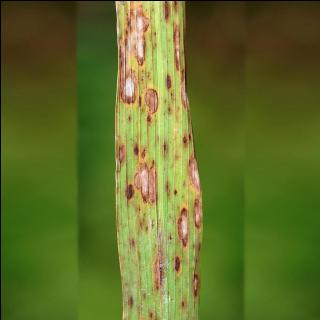Blast: (115, 1, 155, 118), (123, 141, 164, 224), (171, 25, 186, 65), (182, 161, 205, 185), (176, 210, 190, 246), (172, 77, 187, 105), (190, 201, 206, 227), (187, 274, 200, 298)
